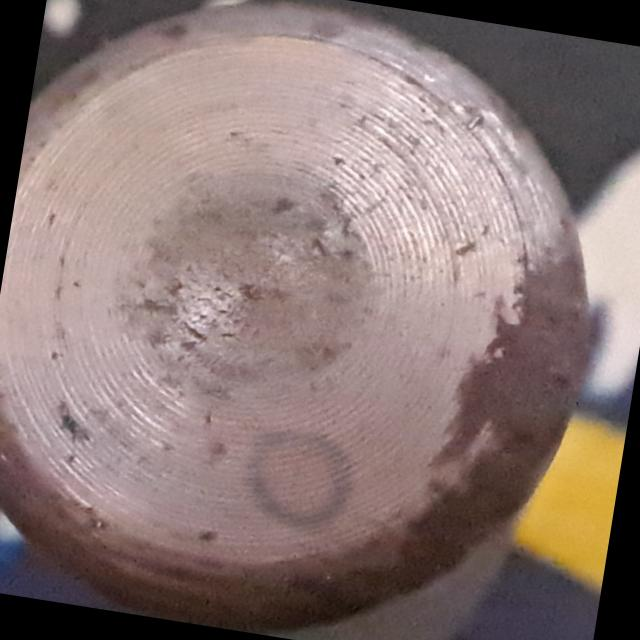defect: (238, 416, 357, 542)
planson: (0, 0, 591, 640)
